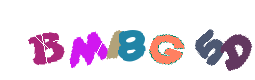1: (83, 0, 163, 80)
5: (126, 0, 206, 80)
8: (94, 0, 174, 80)
B: (6, 0, 86, 80)
D: (174, 0, 254, 80)
G: (96, 0, 176, 80)
M: (47, 0, 127, 80)
